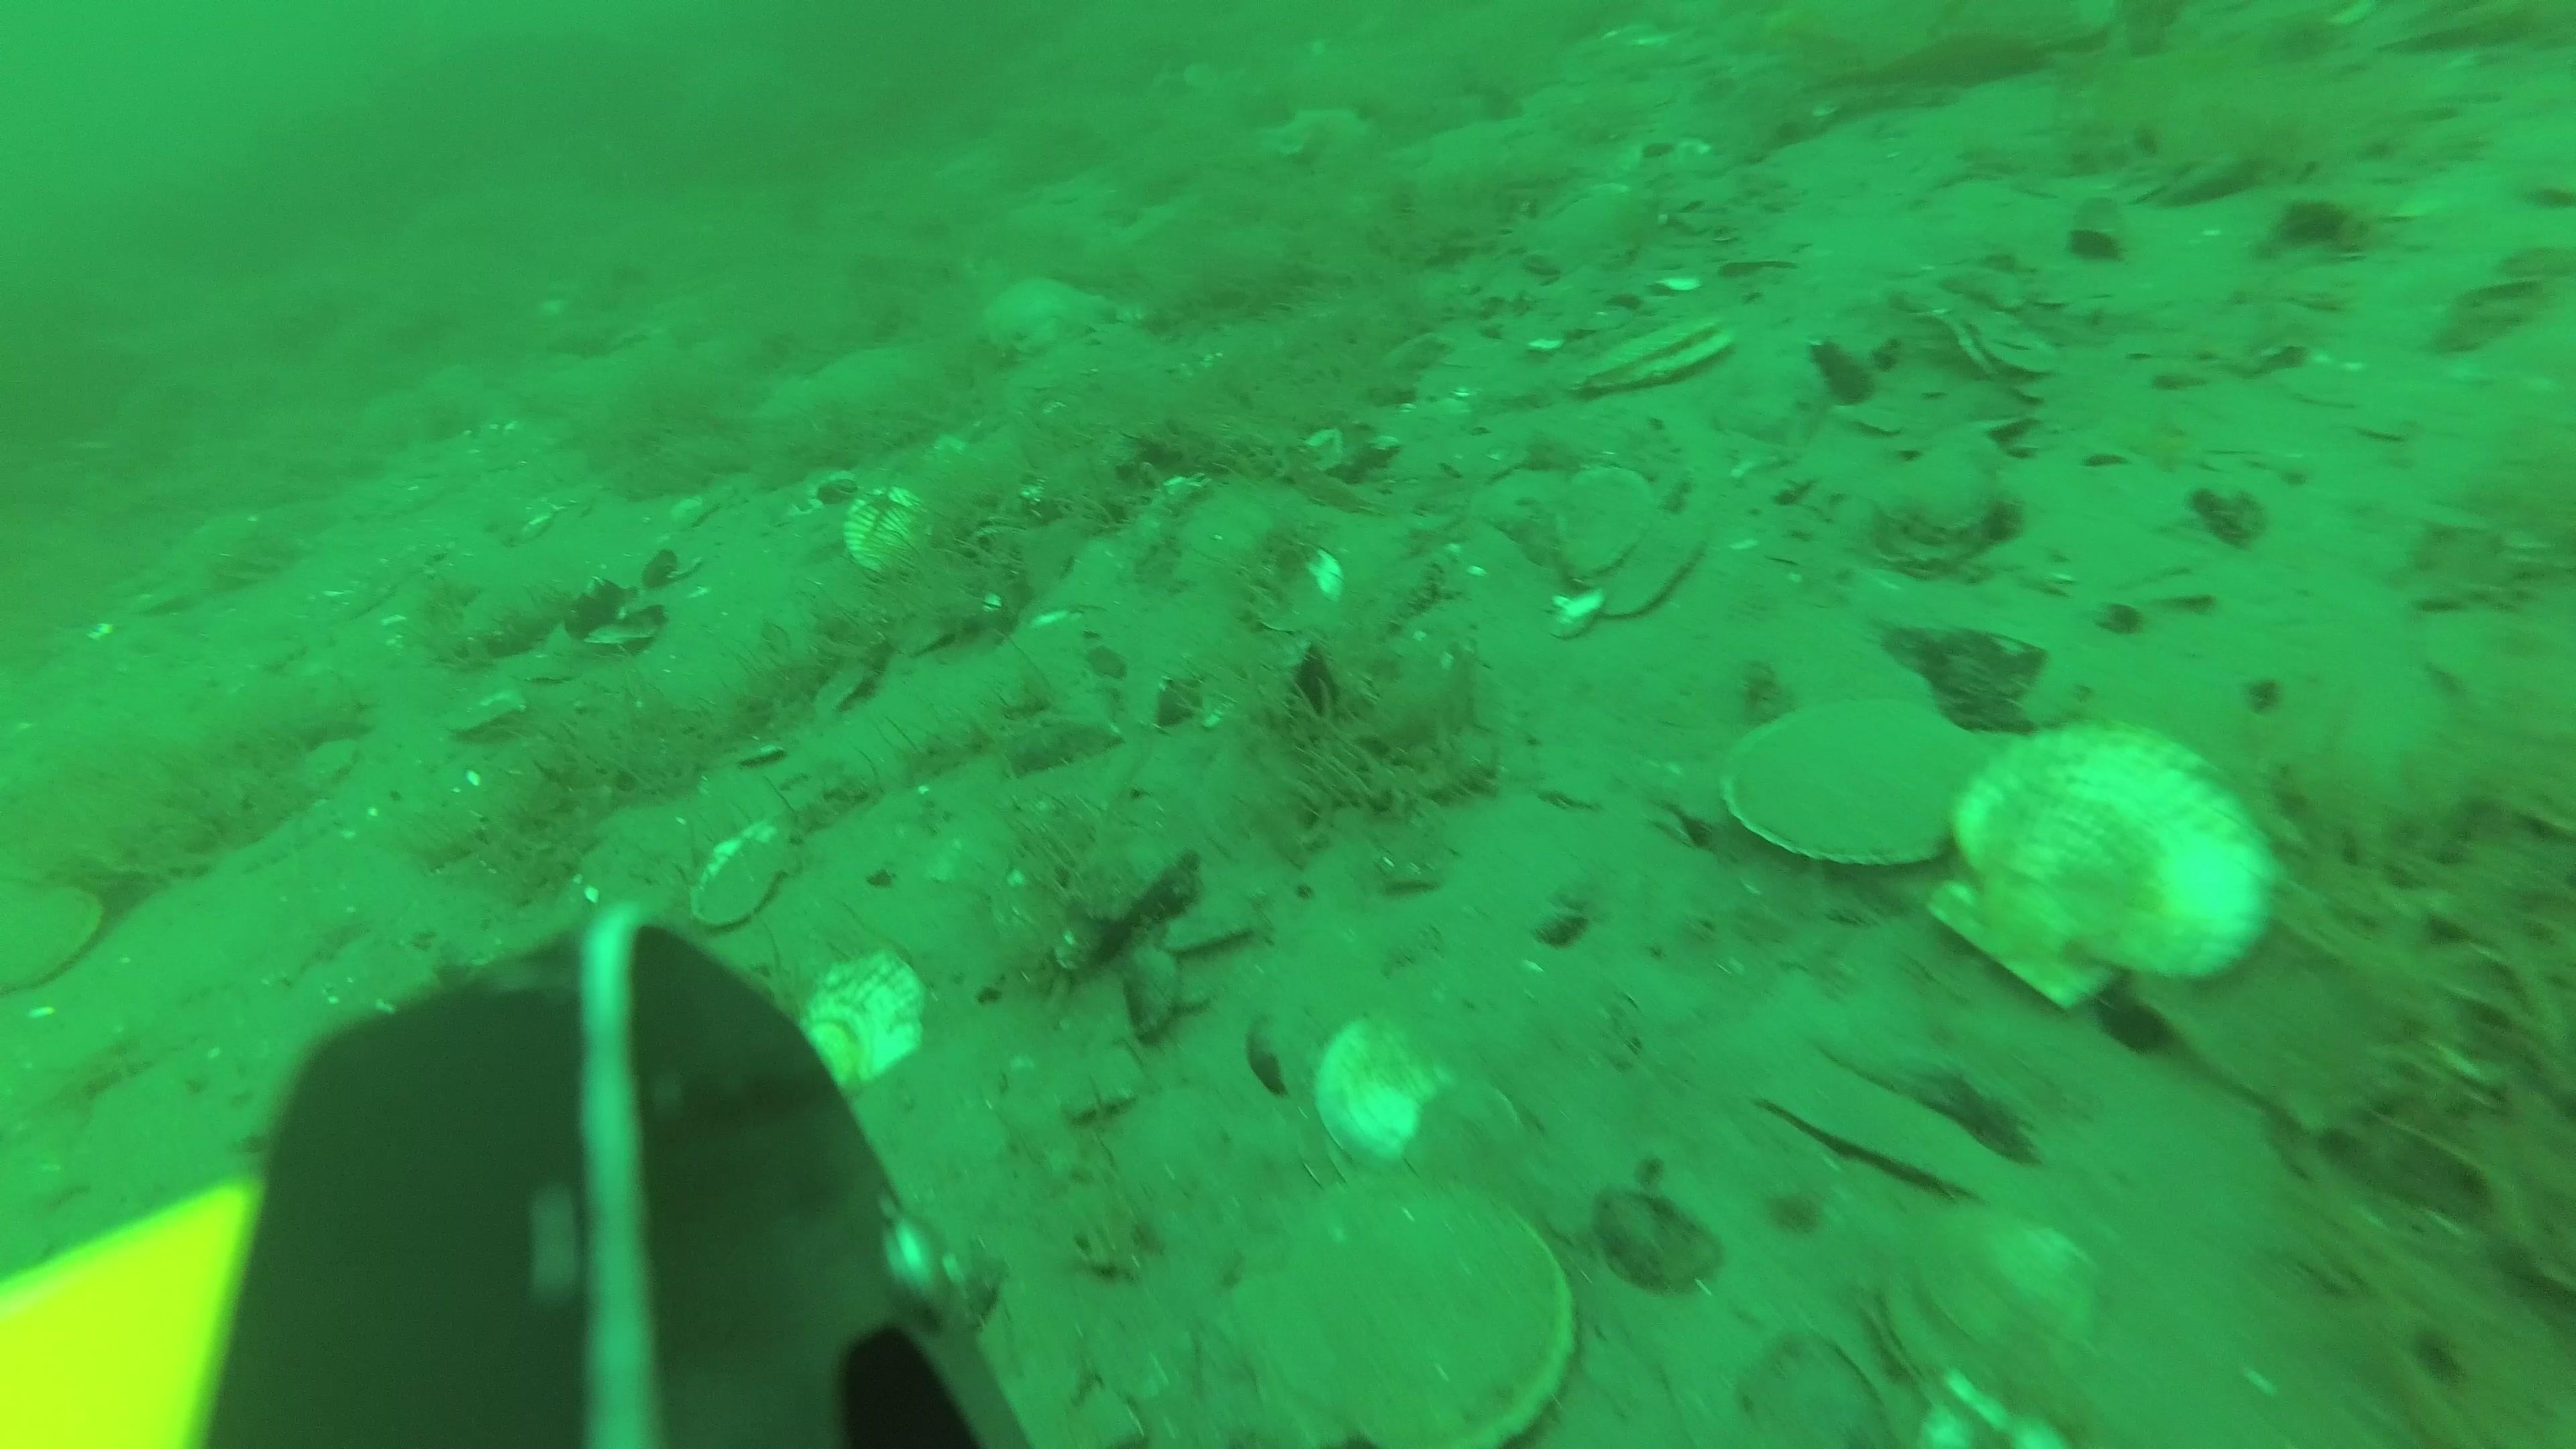scallop: (1944, 724, 2277, 1005), (1226, 1175, 1571, 1444), (1721, 694, 1987, 872), (1313, 1016, 1516, 1187), (1913, 1205, 2102, 1369), (796, 950, 929, 1097), (1573, 301, 1737, 395), (1536, 462, 1660, 584), (1410, 1079, 1527, 1198), (0, 874, 104, 998), (690, 819, 801, 931), (1594, 513, 1709, 621), (842, 483, 939, 582)
starfish: (980, 272, 1122, 361), (1254, 103, 1376, 173)
